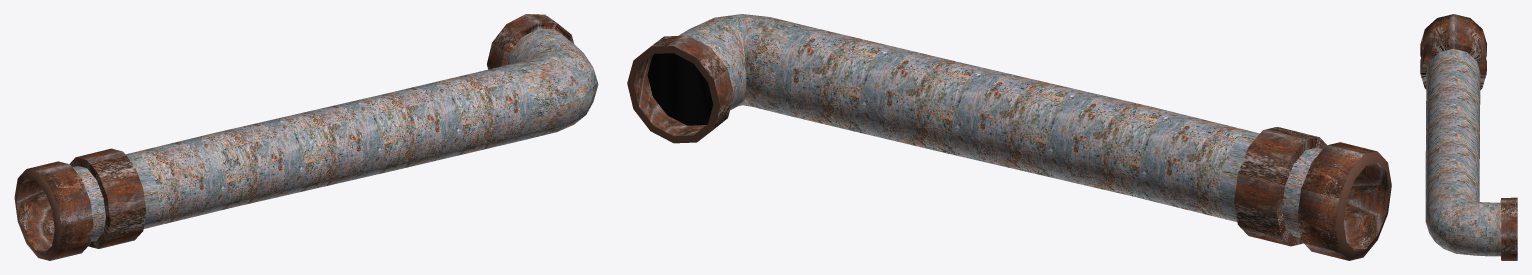
File: TPM Environment.obj
3 renders of one model, left to right at view 1: azimuth 30°, elevation 25°; view 2: azimuth 150°, elevation 25°; view 3: azimuth 270°, elevation 25°, orthographic. The views are drawn at different scales.
Visible parts, largest first — view 1: TPM Environment; view 2: TPM Environment; view 3: TPM Environment.
Part boxes in pixels (x1,y1,x2,y2): TPM Environment: (14,14,598,260); TPM Environment: (627,14,1391,260); TPM Environment: (1420,14,1517,260).
Bounding box in the file's own units: 17.27 × 2.5 × 3.61.
